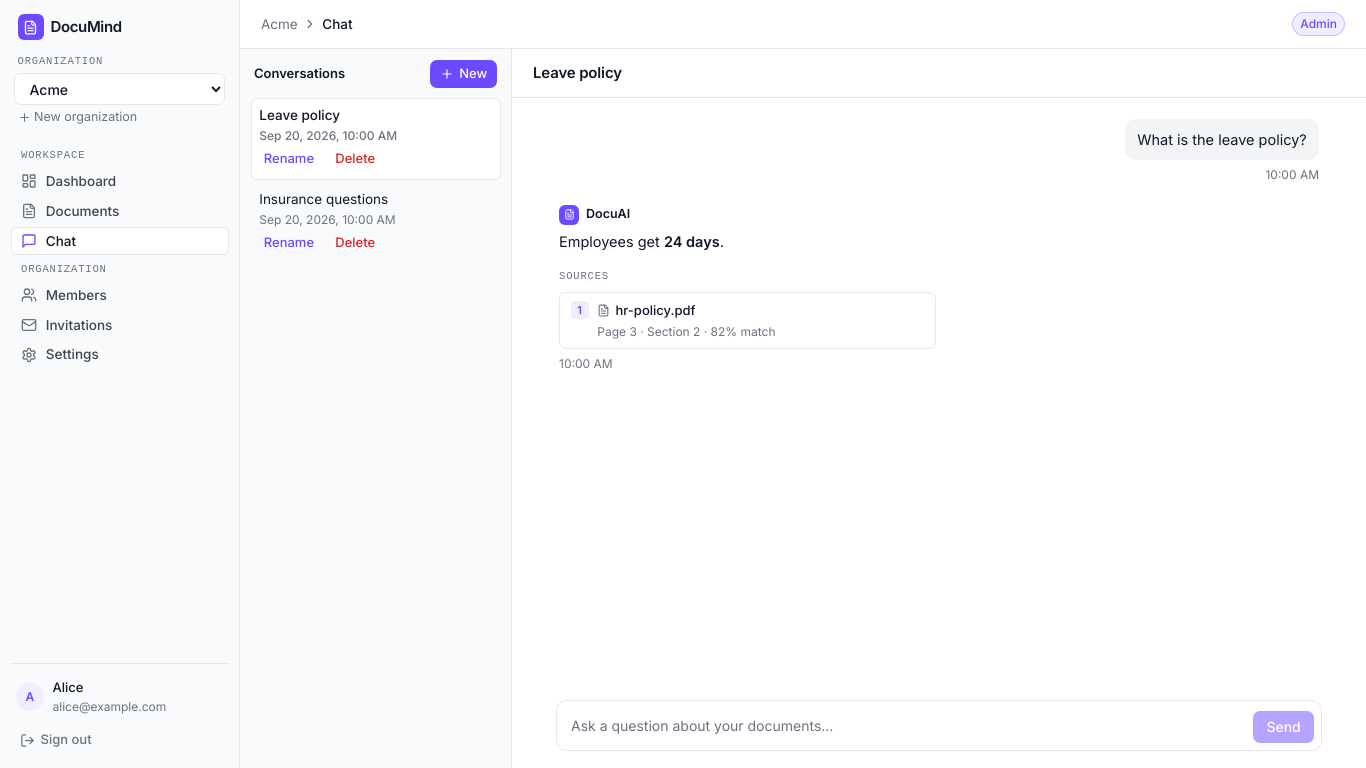
it: Conversation sidebar › deletes the active conversation and leaves it
Click the button with aria-label "Delete Leave policy" at (355, 159), box left=326, top=145, right=385, bottom=173
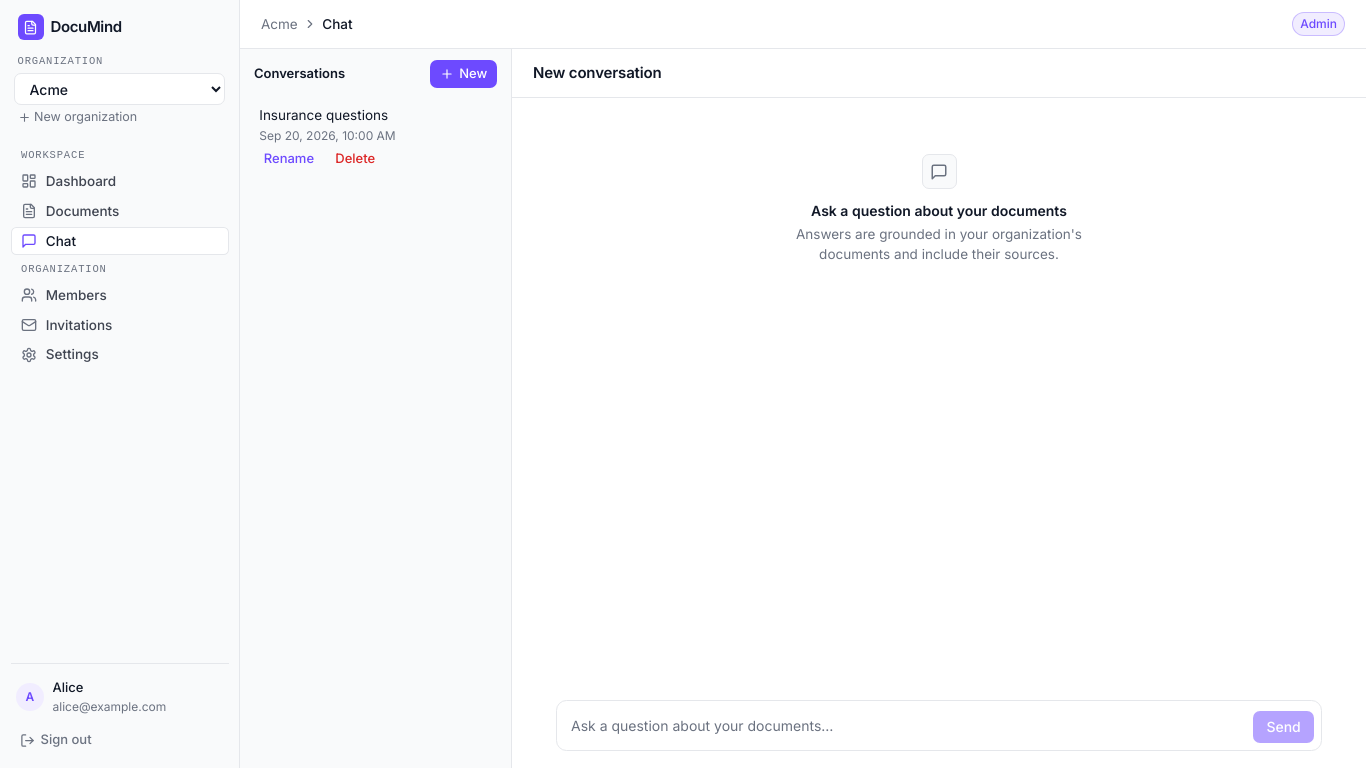
Now the link "Leave policy" is gone
Now the heading "New conversation" is shown, box left=533, top=64, right=662, bottom=82
